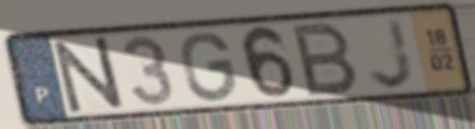3: (119, 32, 177, 110)
6: (238, 23, 298, 102)
B: (290, 19, 362, 99)
G: (178, 29, 239, 104)
J: (366, 15, 418, 92)
N: (49, 34, 127, 116)
